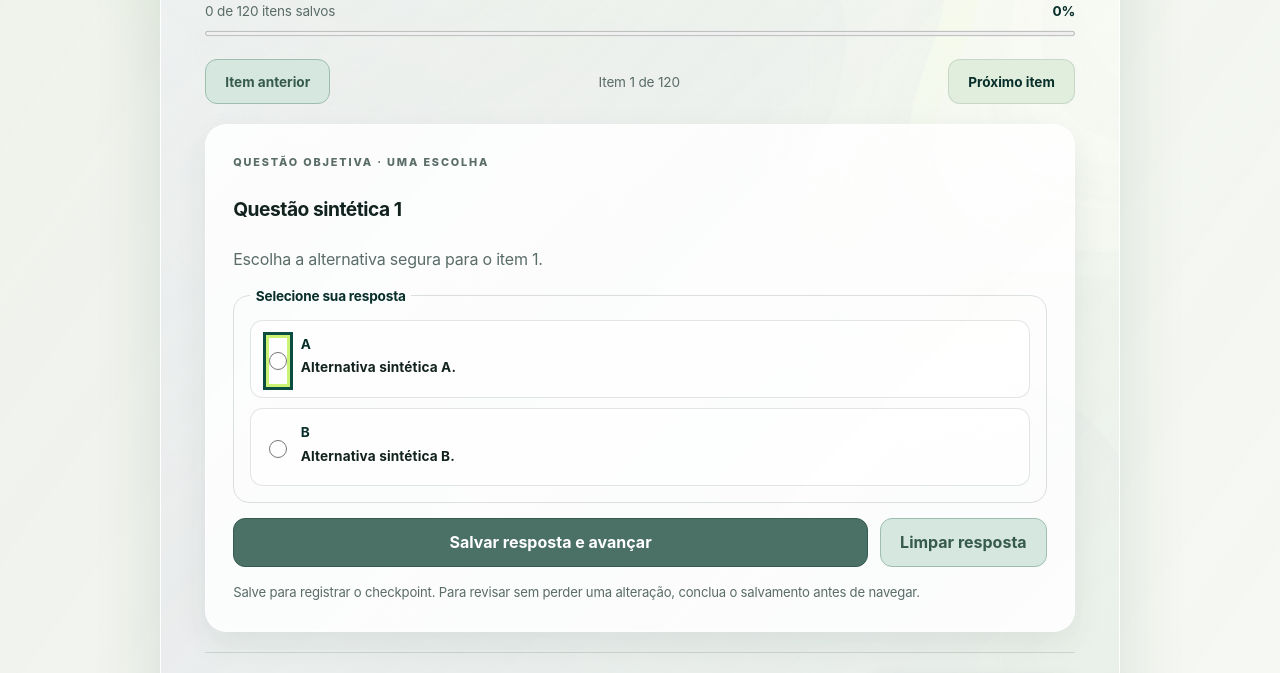
Test: R45 recognized answer 422 associates fixed error and restores enabled native field at 1440
(page scrolled)
Expected: the element with test id "diagnostic-item" is shown, x1=205 y1=124 x2=1075 y2=632
Type keys " "
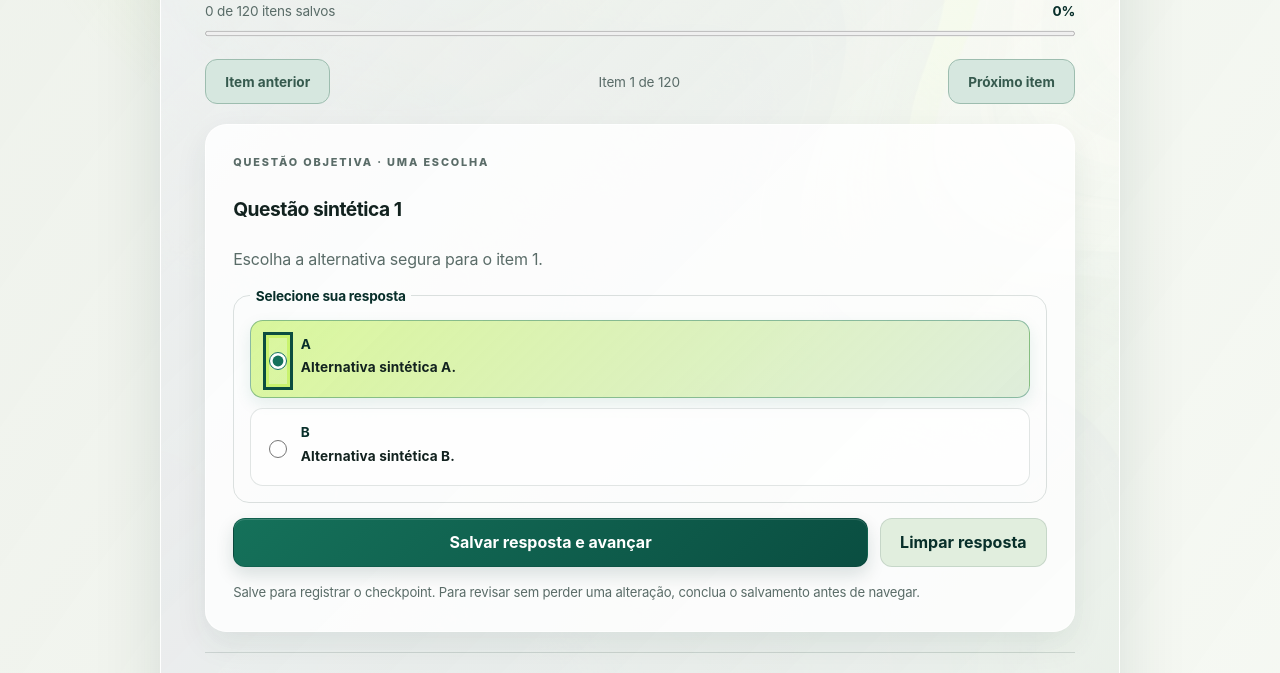
Expected: the radio button labelled "A Alternativa sintética A." is checked, x1=269 y1=338 x2=287 y2=384
Press Tab
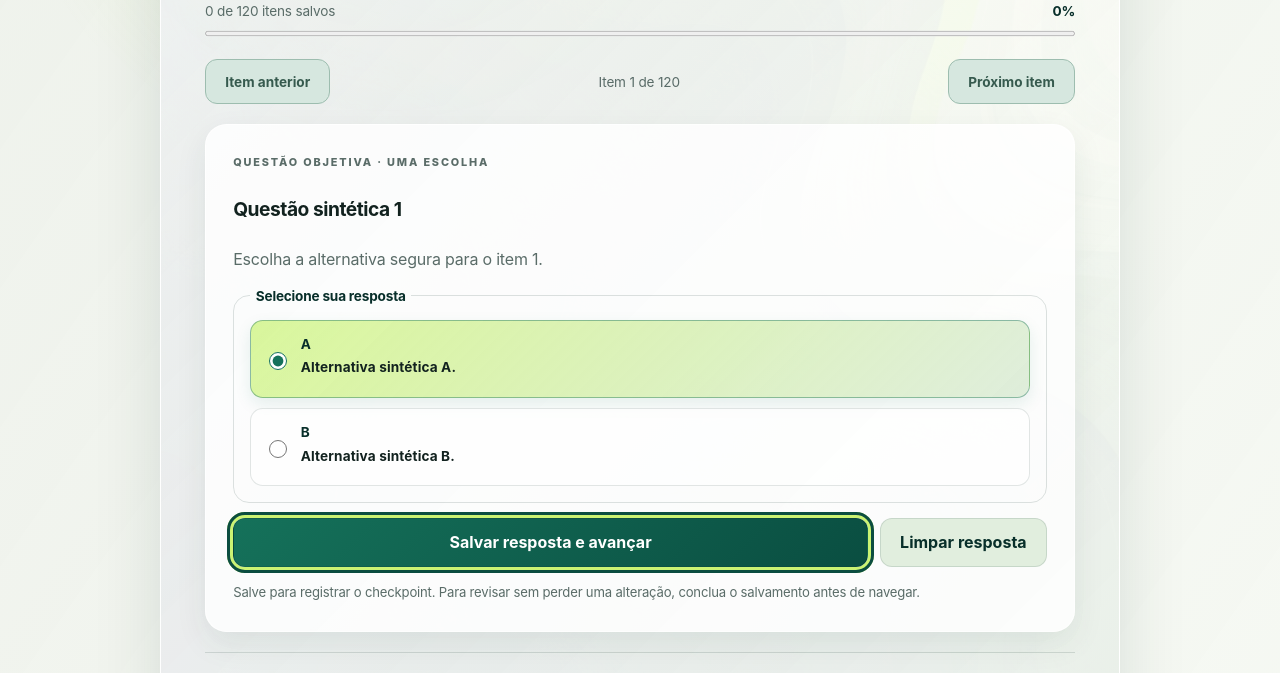
Expected: the button "Salvar resposta e avançar" is shown, x1=233 y1=518 x2=868 y2=567
Press Enter
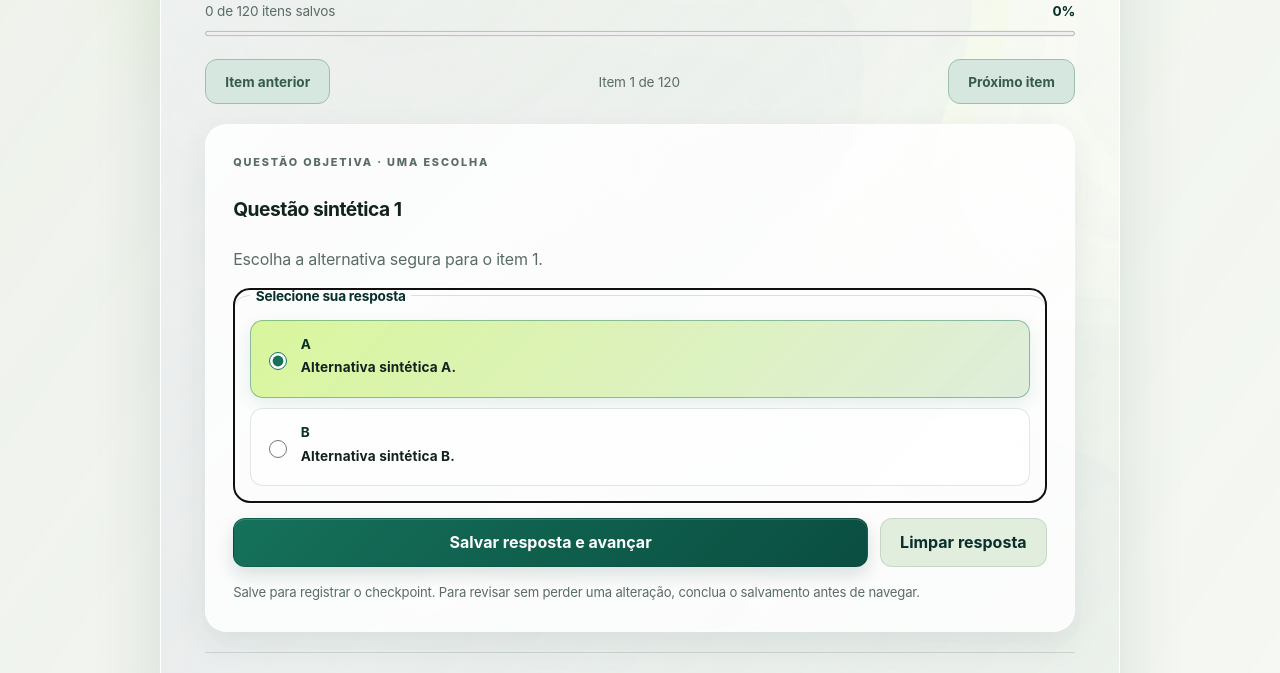
Expected: the radio button labelled "A Alternativa sintética A." is enabled, x1=269 y1=338 x2=287 y2=384
Expected: the radio button labelled "A Alternativa sintética A." is checked, x1=269 y1=338 x2=287 y2=384
Press Tab
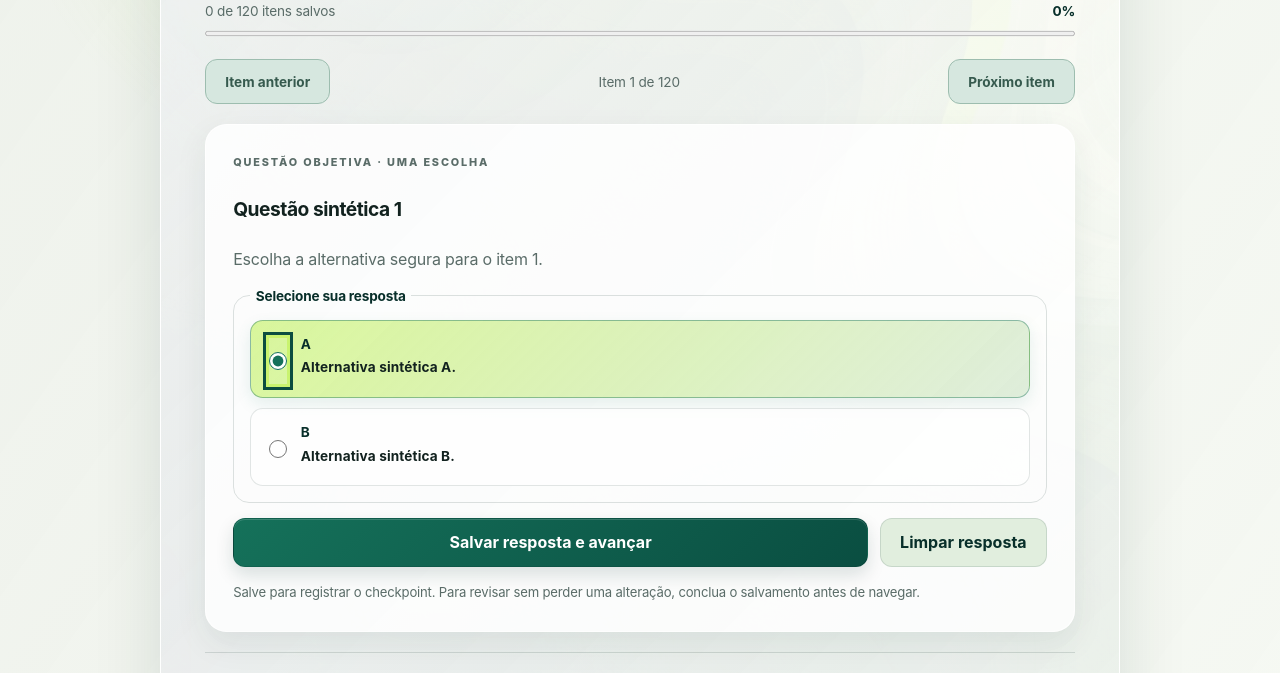
Click the radio button labelled "B Alternativa sintética B." at (278, 449), box x1=269 y1=426 x2=287 y2=472
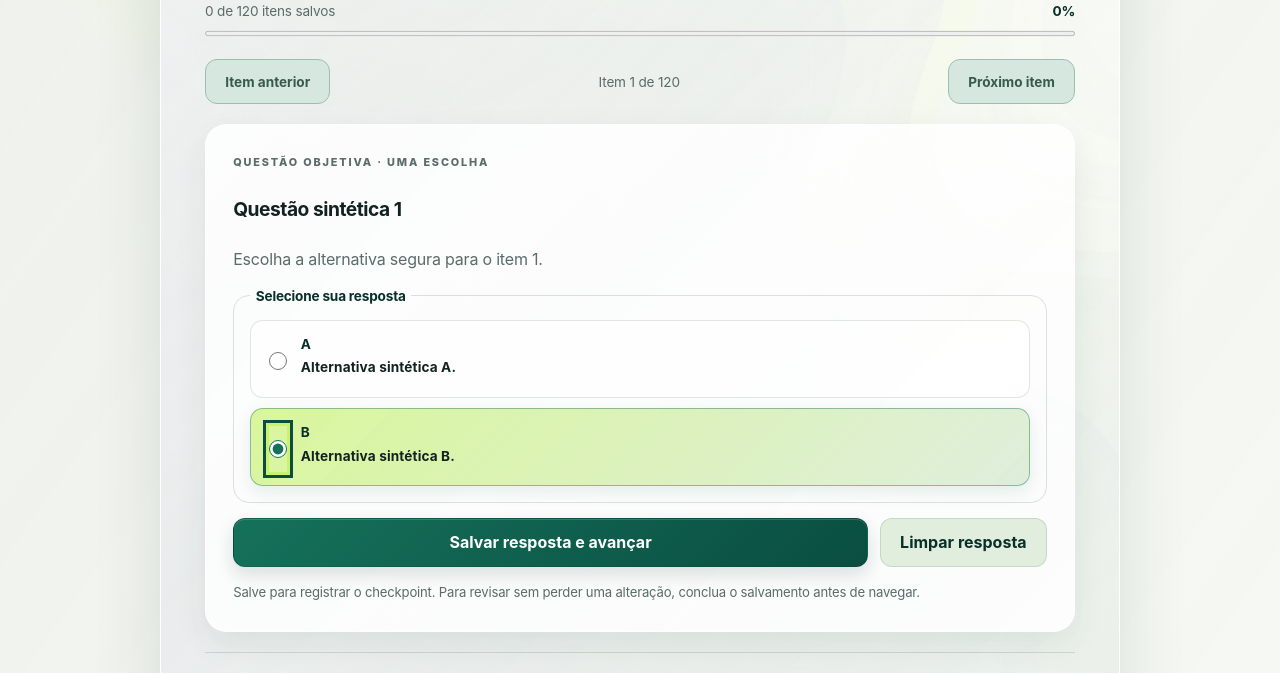
Expected: the element with class "diagnostic-choice-fieldset" does not have attribute aria-invalid="true", x1=233 y1=288 x2=1047 y2=503
Click the button "Salvar resposta e avançar" at (551, 542), box x1=233 y1=518 x2=868 y2=567
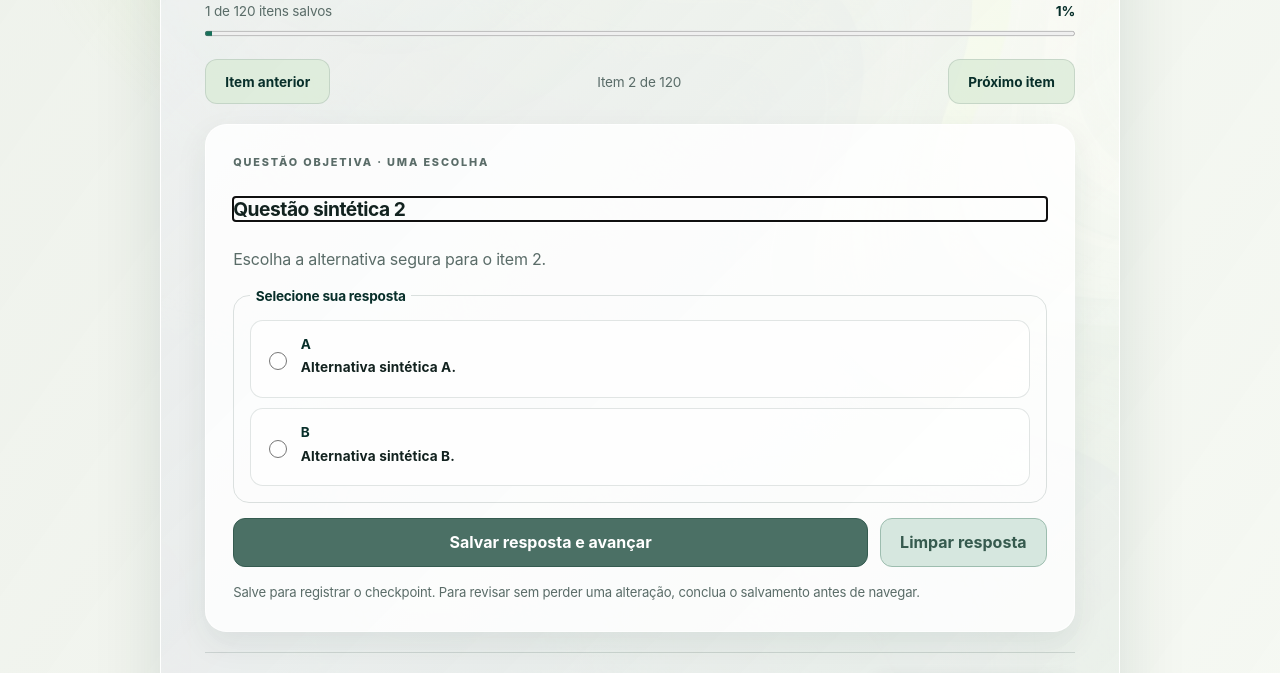
Expected: the heading "Questão sintética 2" is shown, x1=233 y1=197 x2=405 y2=221
